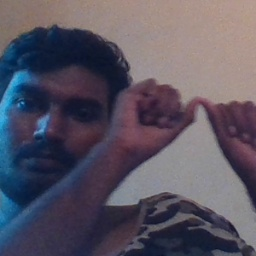A: (155, 80, 251, 156)
